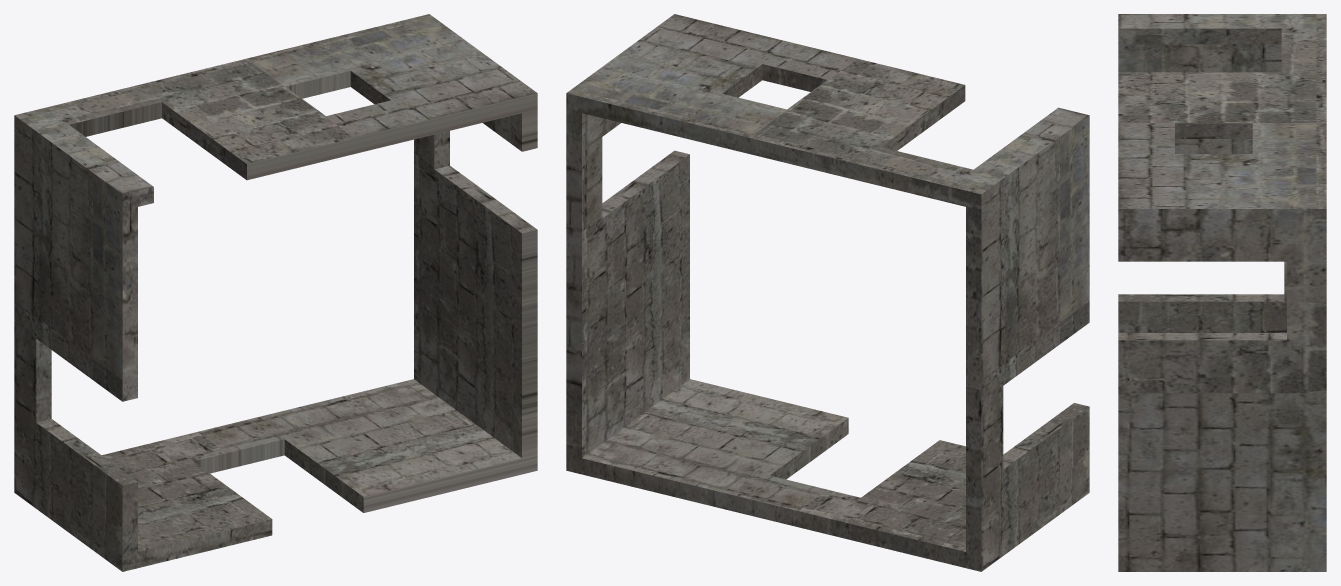
Rendered from defaultopencabin.glb.
3 renders of one model, left to right at view 1: azimuth 30°, elevation 25°; view 2: azimuth 150°, elevation 25°; view 3: azimuth 270°, elevation 25°, orthographic. The views are drawn at different scales.
Parts seen in each view (by area): view 1: DefaultOpenCabin; view 2: DefaultOpenCabin; view 3: DefaultOpenCabin.
Part boxes in pixels (x1=…): DefaultOpenCabin: x1=14, y1=14, x2=537, y2=571; DefaultOpenCabin: x1=566, y1=14, x2=1089, y2=571; DefaultOpenCabin: x1=1118, y1=14, x2=1326, y2=571.
Bounding box in the file's own units: 2.77 × 2.41 × 1.25.
Materials: 1 (1 with a texture image).
